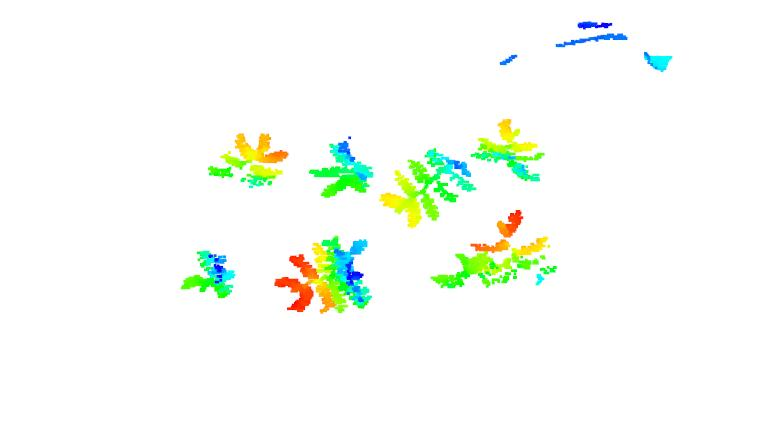chickpea: (430, 211, 560, 294), (272, 231, 374, 316), (380, 146, 475, 229), (208, 126, 292, 192), (467, 116, 547, 185), (305, 137, 372, 200), (176, 247, 238, 300)
